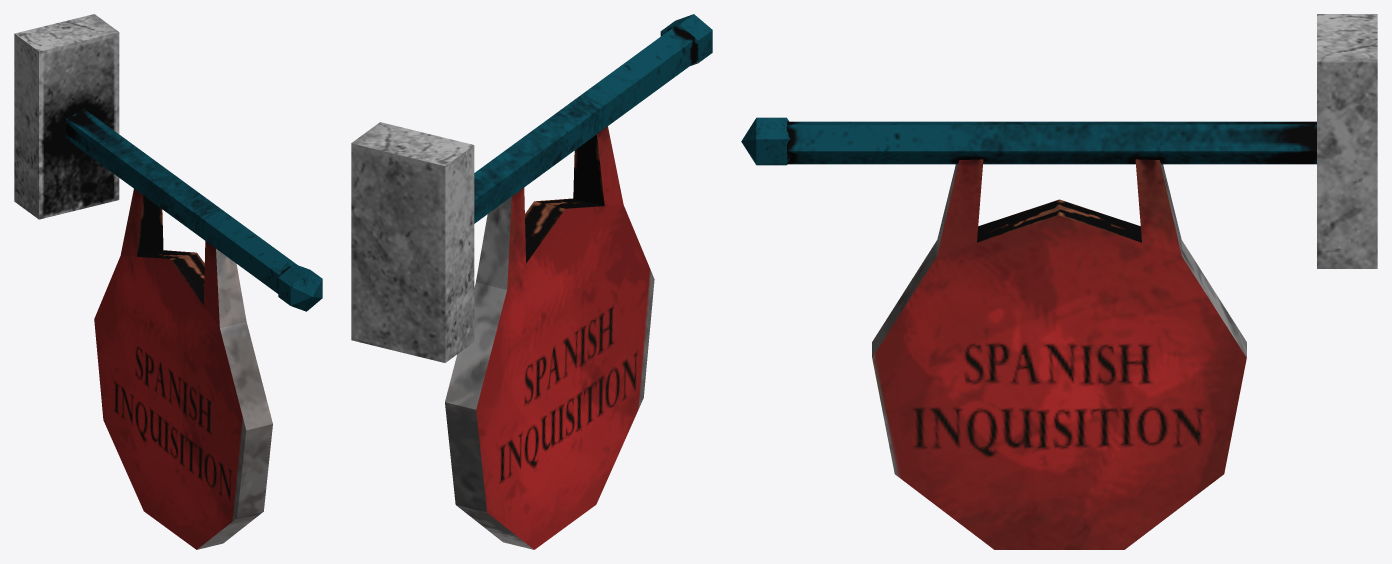
Rendered from SM_Sign2.FBX.
3 renders of one model, left to right at view 1: azimuth 30°, elevation 25°; view 2: azimuth 150°, elevation 25°; view 3: azimuth 270°, elevation 25°, orthographic. The views are drawn at different scales.
Parts seen in each view (by area): view 1: Object001; view 2: Object001; view 3: Object001.
Part boxes in pixels (x1,y1,x2,y2): Object001: [14, 14, 322, 549]; Object001: [351, 14, 712, 549]; Object001: [741, 14, 1377, 549].
Size of the model in its own units: 15 by 73.06 by 83.66.
